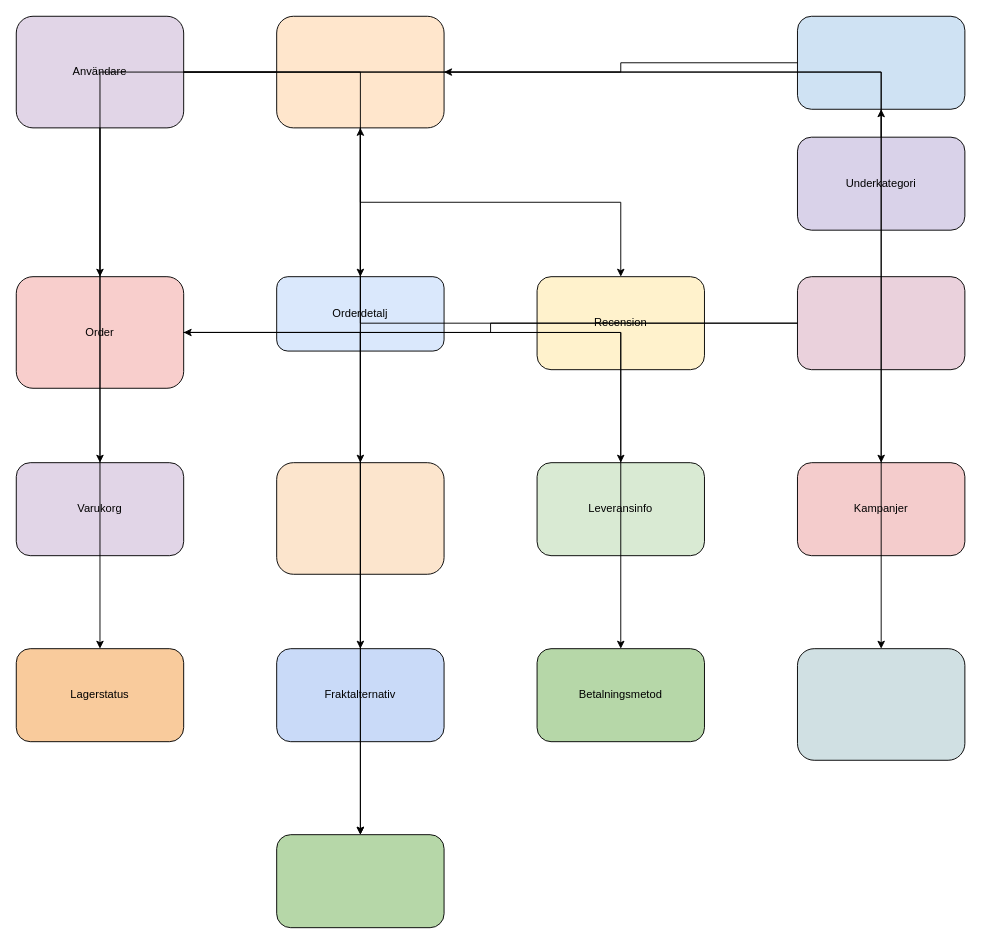
Some shapes in this 981 by 944 pixel diagram are drawn without their labels. The box of each missing label's shape, as (x1, y1, x2, y2) in pixels:
Admin: (797, 276, 965, 370)
Betalningsinfo: (276, 462, 444, 574)
Kundtjänstärenden: (797, 648, 965, 760)
Produkt: (276, 15, 444, 128)
Produktkategori: (797, 15, 965, 109)
Önskelista: (276, 834, 444, 928)
